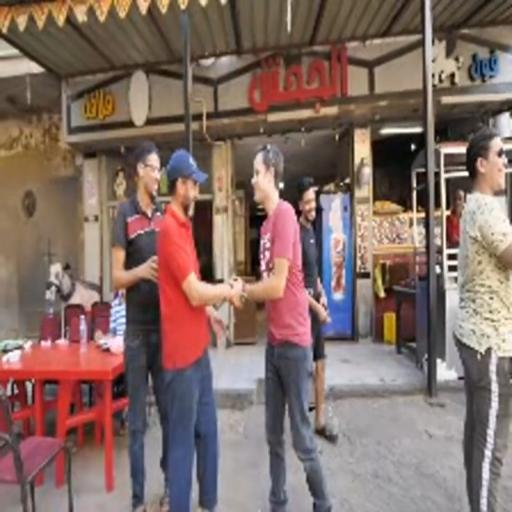nao-violencia: (148, 138, 331, 512)
